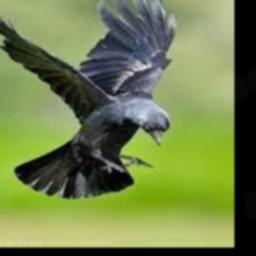Crow: (0, 0, 176, 198)
